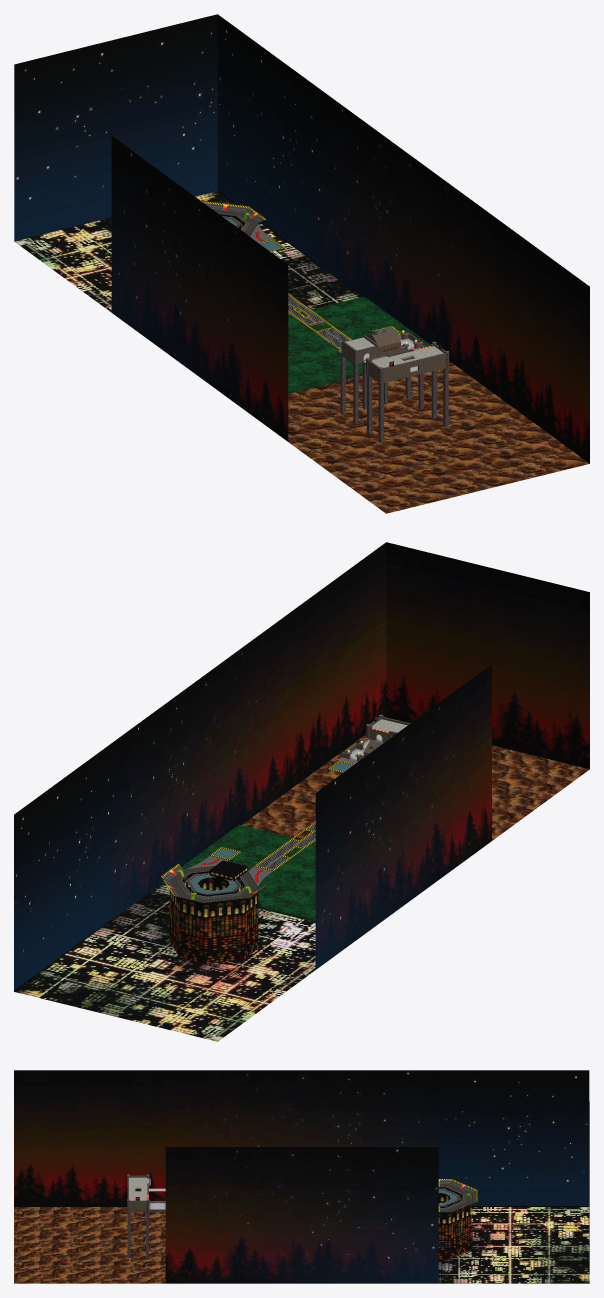
The picture shows the model from 3 angles, top to bottom: view 1: azimuth 30°, elevation 25°; view 2: azimuth 150°, elevation 25°; view 3: azimuth 270°, elevation 25°; orthographic projection. The views are drawn at different scales.
Visible parts, largest first — view 1: course-SKP--Twinight, course-SKP--Night, course-SKP--Forest_Floor, course-SKP--Twilight, course-SKP--City_Ground, course-SKP--Material2.003, course-SKP--Support_Bricks, course-SKP--Border_Bricks, course-SKP--Grate, course-SKP--Ceiling_Road, course-SKP--Caution_Border; view 2: course-SKP--Twinight, course-SKP--Twilight, course-SKP--City_Ground, course-SKP--Night, course-SKP--Forest_Floor, course-SKP--Skyscraper, course-SKP--Material2.003, course-SKP--Grate, course-SKP--Caution_Border, course-SKP--Tower_Road; view 3: course-SKP--Twinight, course-SKP--Twilight, course-SKP--Night, course-SKP--Forest_Floor, course-SKP--City_Ground, course-SKP--Skyscraper, course-SKP--Support_Bricks, course-SKP--Grate, course-SKP--Ceiling_Road.
Part boxes in pixels (bbox=[...]): course-SKP--Twinight: bbox=[111, 86, 491, 441]; course-SKP--Night: bbox=[14, 14, 315, 262]; course-SKP--Forest_Floor: bbox=[288, 361, 589, 513]; course-SKP--Twilight: bbox=[492, 215, 589, 463]; course-SKP--City_Ground: bbox=[14, 191, 361, 314]; course-SKP--Material2.003: bbox=[288, 296, 430, 393]; course-SKP--Support_Bricks: bbox=[337, 331, 449, 442]; course-SKP--Border_Bricks: bbox=[341, 341, 445, 382]; course-SKP--Grate: bbox=[204, 203, 349, 348]; course-SKP--Ceiling_Road: bbox=[345, 337, 443, 367]; course-SKP--Caution_Border: bbox=[202, 201, 400, 349]; course-SKP--Twinight: bbox=[111, 614, 491, 969]; course-SKP--Twilight: bbox=[288, 542, 589, 790]; course-SKP--City_Ground: bbox=[14, 884, 315, 1041]; course-SKP--Night: bbox=[14, 743, 111, 991]; course-SKP--Forest_Floor: bbox=[242, 734, 589, 843]; course-SKP--Skyscraper: bbox=[169, 867, 258, 963]; course-SKP--Material2.003: bbox=[160, 824, 315, 922]; course-SKP--Grate: bbox=[163, 823, 315, 902]; course-SKP--Caution_Border: bbox=[161, 760, 354, 902]; course-SKP--Tower_Road: bbox=[169, 866, 257, 902]; course-SKP--Twinight: bbox=[165, 1070, 438, 1283]; course-SKP--Twilight: bbox=[14, 1070, 165, 1206]; course-SKP--Night: bbox=[438, 1070, 589, 1237]; course-SKP--Forest_Floor: bbox=[14, 1207, 165, 1283]; course-SKP--City_Ground: bbox=[438, 1207, 589, 1283]; course-SKP--Skyscraper: bbox=[438, 1187, 471, 1259]; course-SKP--Support_Bricks: bbox=[127, 1175, 165, 1257]; course-SKP--Grate: bbox=[438, 1180, 475, 1212]; course-SKP--Ceiling_Road: bbox=[129, 1177, 148, 1200].
Size of the model in its own units: 90002 by 74893 by 284978.
Materials: 34 (34 with a texture image).
